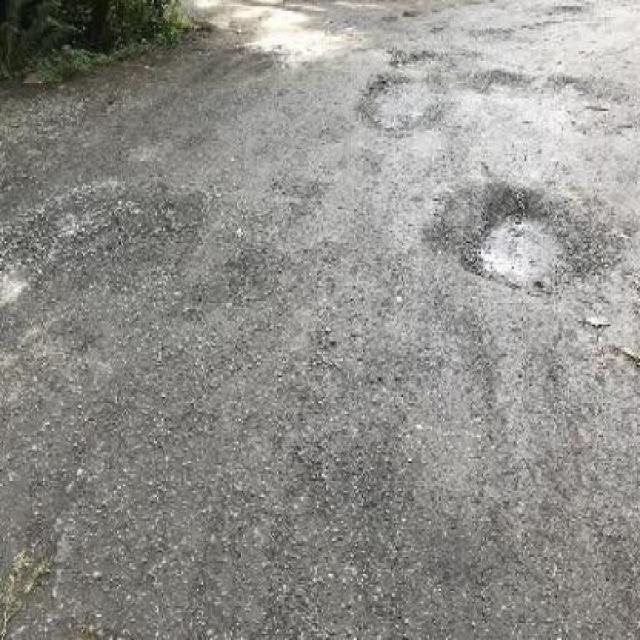Pothole: (0, 174, 212, 297), (431, 182, 602, 299), (351, 67, 456, 132), (543, 71, 632, 139), (466, 66, 532, 99)
